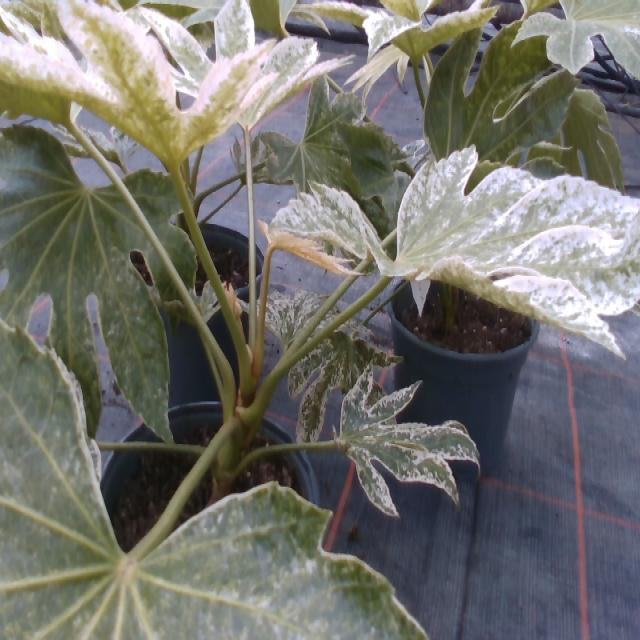Fatsia-japonica: (0, 316, 441, 640), (3, 122, 202, 450), (0, 12, 275, 185), (134, 0, 352, 141), (418, 14, 566, 198), (332, 366, 476, 516), (251, 72, 372, 203), (294, 316, 396, 452), (244, 276, 357, 391), (292, 0, 486, 61), (536, 79, 635, 196), (511, 0, 640, 78), (264, 192, 380, 276), (328, 105, 399, 215)
